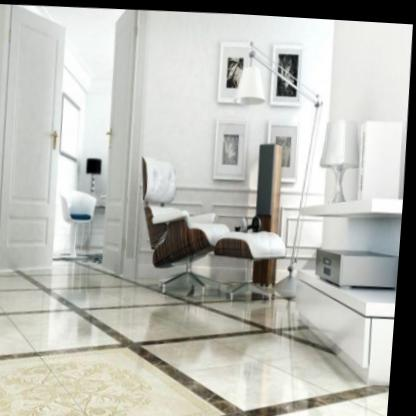Ceramic floor: (0, 271, 395, 416)
Door: (3, 4, 66, 265)
